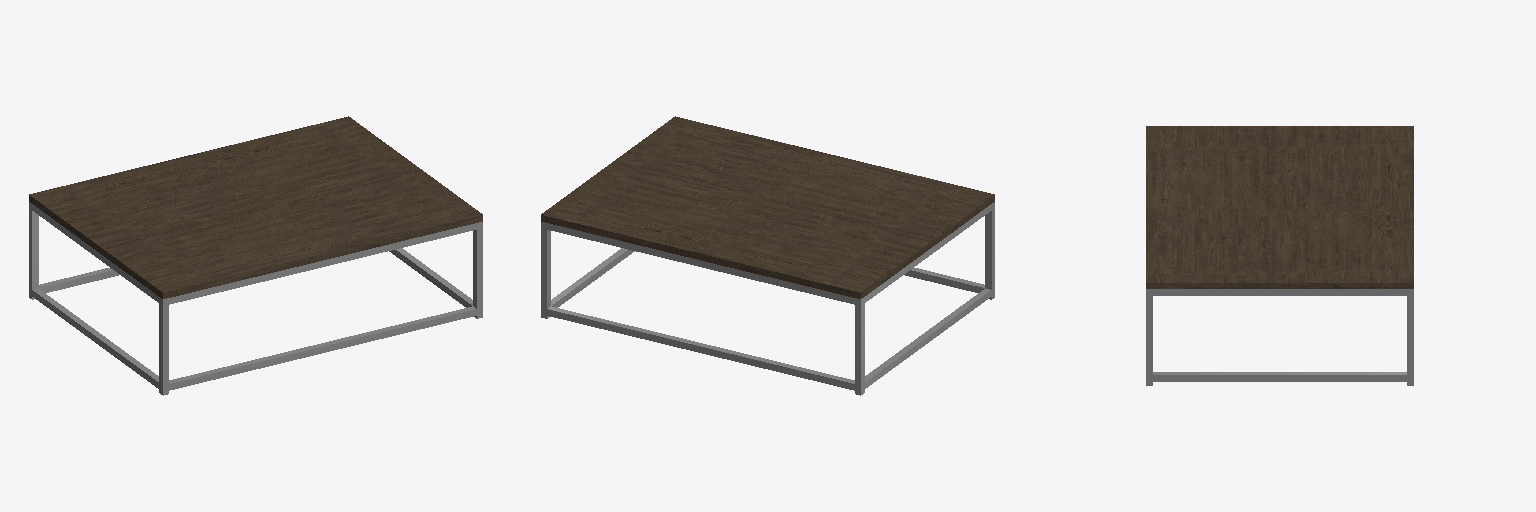
3 renders of one model, left to right at view 1: azimuth 30°, elevation 25°; view 2: azimuth 150°, elevation 25°; view 3: azimuth 270°, elevation 25°, orthographic.
Visible parts, largest first — view 1: solid_002, solid_001; view 2: solid_002, solid_001; view 3: solid_002, solid_001.
Boxes of the visible parts, x1=… form: solid_002: x1=29, y1=116, x2=482, y2=298; solid_001: x1=29, y1=202, x2=482, y2=395; solid_002: x1=541, y1=116, x2=994, y2=298; solid_001: x1=541, y1=202, x2=994, y2=395; solid_002: x1=1146, y1=126, x2=1413, y2=288; solid_001: x1=1146, y1=289, x2=1413, y2=385.
Bounding box in the file's own units: 2 × 0.6133 × 1.45.
1 materials, 1 textured.